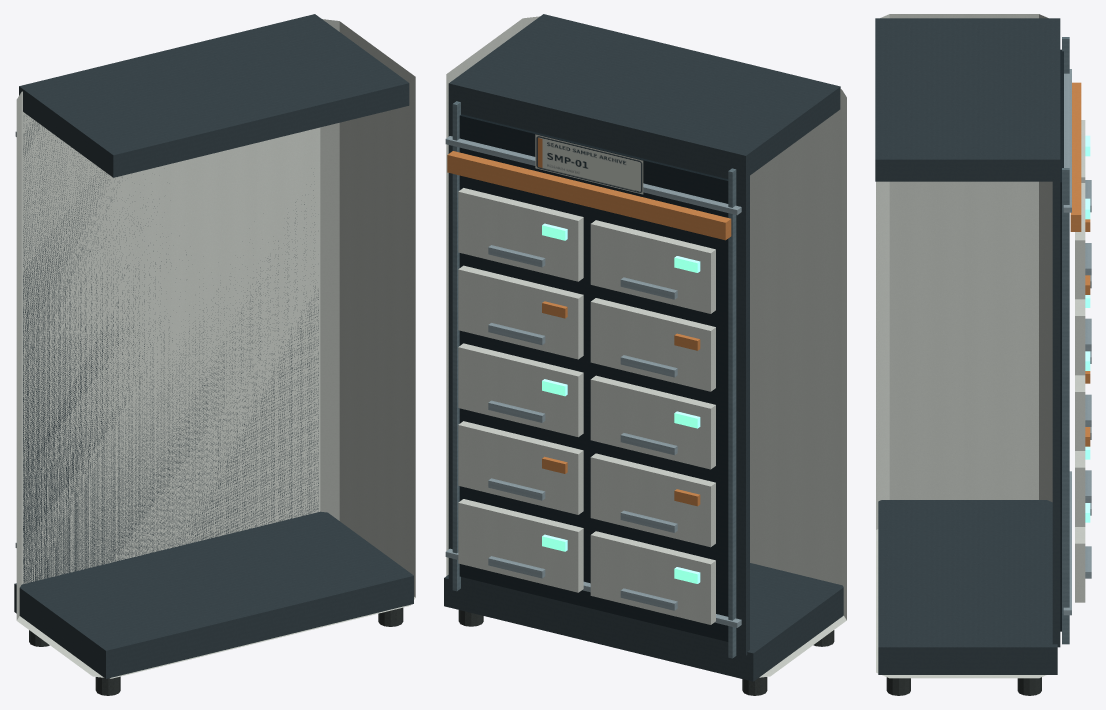
File: sample_storage_cabinet.glb
3 views of the same model, side by side, from view 1: azimuth 30°, elevation 25°; view 2: azimuth 150°, elevation 25°; view 3: azimuth 270°, elevation 25° (orthographic). The views are drawn at different scales.
Visible parts, largest first — view 1: static__shell, static__graphite, front_frame__graphite, feet__rubber; view 2: Sample_Drawers__shell, static__graphite, static__shell, interior__carbon, front_frame__graphite, static__trim, Header__amber, Drawer_Handles__alloy, static__label_SMP-01, static__alloy, Sample_Indicators__mint, Sample_Indicators__amber (+1 smaller); view 3: static__graphite, static__shell, Sample_Drawers__shell, front_frame__graphite, static__trim, Header__amber, static__alloy, Drawer_Handles__alloy, interior__carbon, feet__rubber, Sample_Indicators__mint, Sample_Indicators__amber.
Part boxes in pixels (x1=…): static__shell: x1=16, y1=19, x2=415, y2=678; static__graphite: x1=14, y1=14, x2=413, y2=678; front_frame__graphite: x1=23, y1=114, x2=318, y2=583; feet__rubber: x1=29, y1=607, x2=403, y2=695; Sample_Drawers__shell: x1=458, y1=188, x2=715, y2=624; static__graphite: x1=444, y1=14, x2=843, y2=681; static__shell: x1=446, y1=16, x2=846, y2=677; interior__carbon: x1=459, y1=114, x2=728, y2=641; front_frame__graphite: x1=448, y1=100, x2=749, y2=655; static__trim: x1=452, y1=101, x2=736, y2=658; Header__amber: x1=447, y1=151, x2=731, y2=240; Drawer_Handles__alloy: x1=488, y1=245, x2=677, y2=610; static__label_SMP-01: x1=535, y1=134, x2=643, y2=194; static__alloy: x1=445, y1=136, x2=741, y2=627; Sample_Indicators__mint: x1=542, y1=223, x2=700, y2=583; Sample_Indicators__amber: x1=542, y1=301, x2=700, y2=506; static__graphite: x1=875, y1=18, x2=1060, y2=674; static__shell: x1=876, y1=14, x2=1052, y2=678; Sample_Drawers__shell: x1=1075, y1=120, x2=1085, y2=602; front_frame__graphite: x1=1052, y1=176, x2=1060, y2=647; static__trim: x1=1062, y1=37, x2=1069, y2=644; Header__amber: x1=1070, y1=82, x2=1081, y2=231; static__alloy: x1=1063, y1=69, x2=1071, y2=615; Drawer_Handles__alloy: x1=1085, y1=180, x2=1091, y2=578; interior__carbon: x1=1060, y1=49, x2=1063, y2=631; feet__rubber: x1=886, y1=677, x2=1041, y2=695; Sample_Indicators__mint: x1=1085, y1=135, x2=1090, y2=522; Sample_Indicators__amber: x1=1085, y1=219, x2=1090, y2=446.
Size of the model in its own units: 1.2 by 1.94 by 0.71.
Materials: 9 (9 with a texture image).
